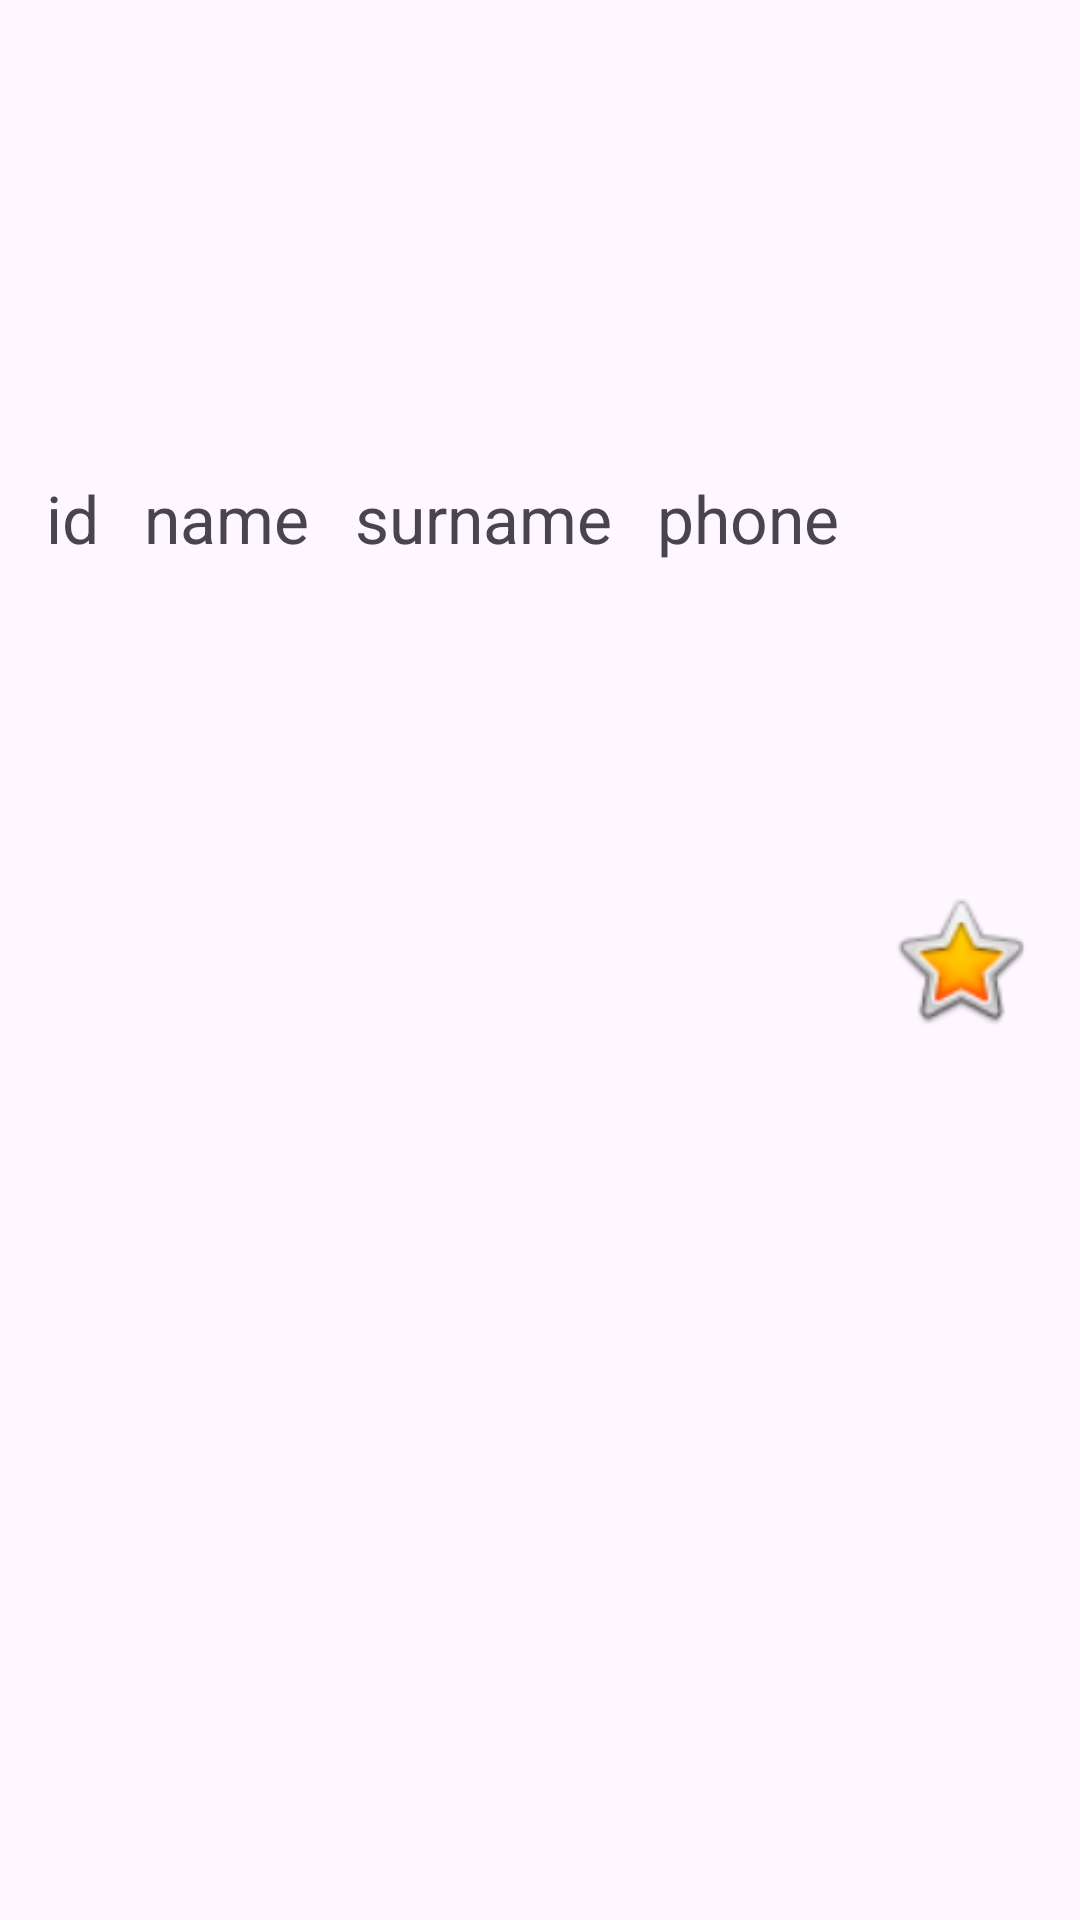

Screen size 1080w x 1920h. Icon name, then its box in pixels as (x1, y1, x2, y2):
star on: (899, 900, 1024, 1022)
